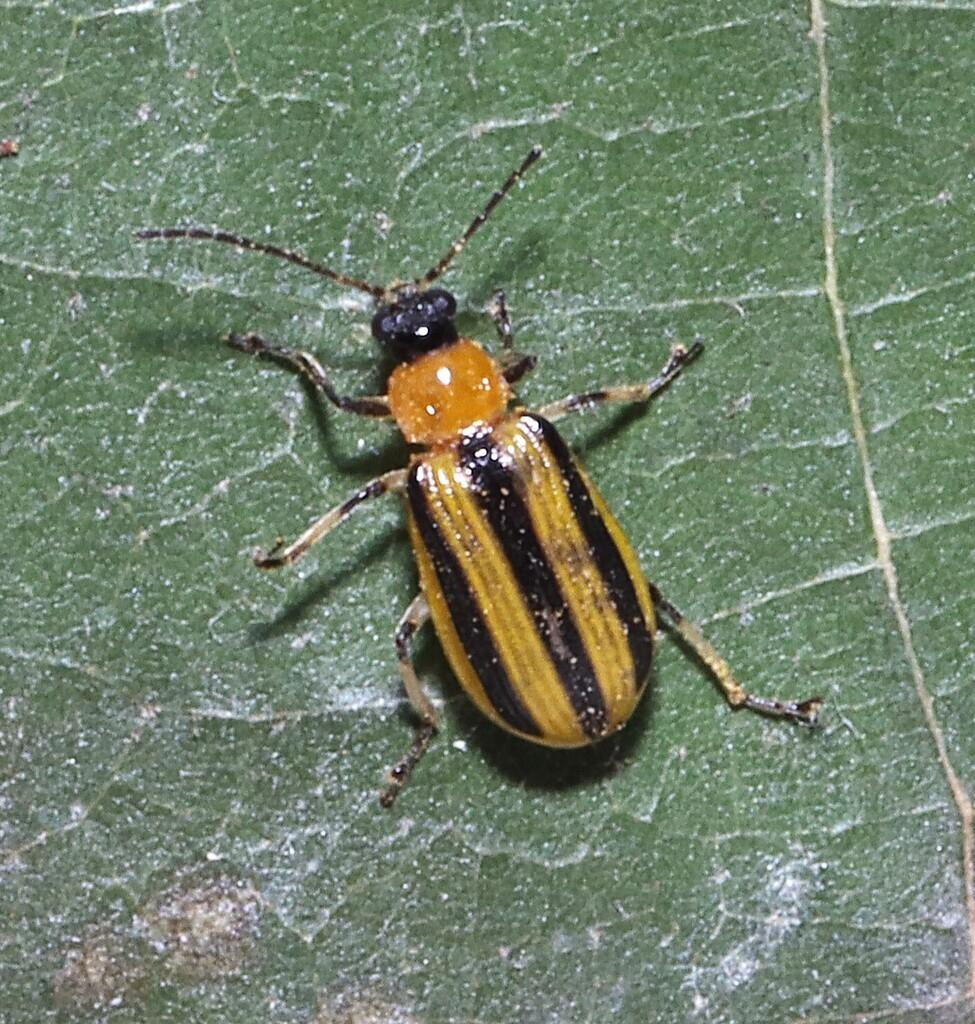potato_beetle: (84, 69, 901, 960)
